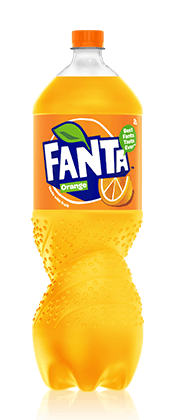Fanta: (9, 20, 148, 394)
